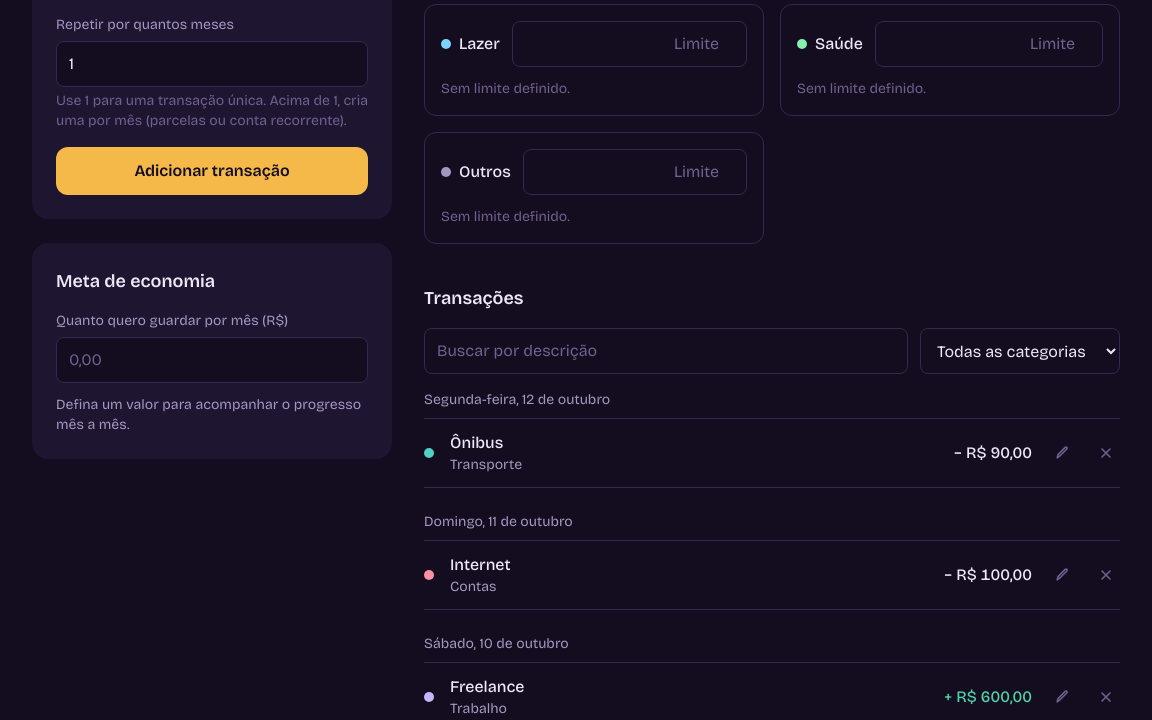
Test: Dashboard › acompanha a meta de economia
(page scrolled)
Step 1. Type "3000" into the number field labelled "Quanto quero guardar por mês (R$)" → [212, 360], box [56,337,368,383]
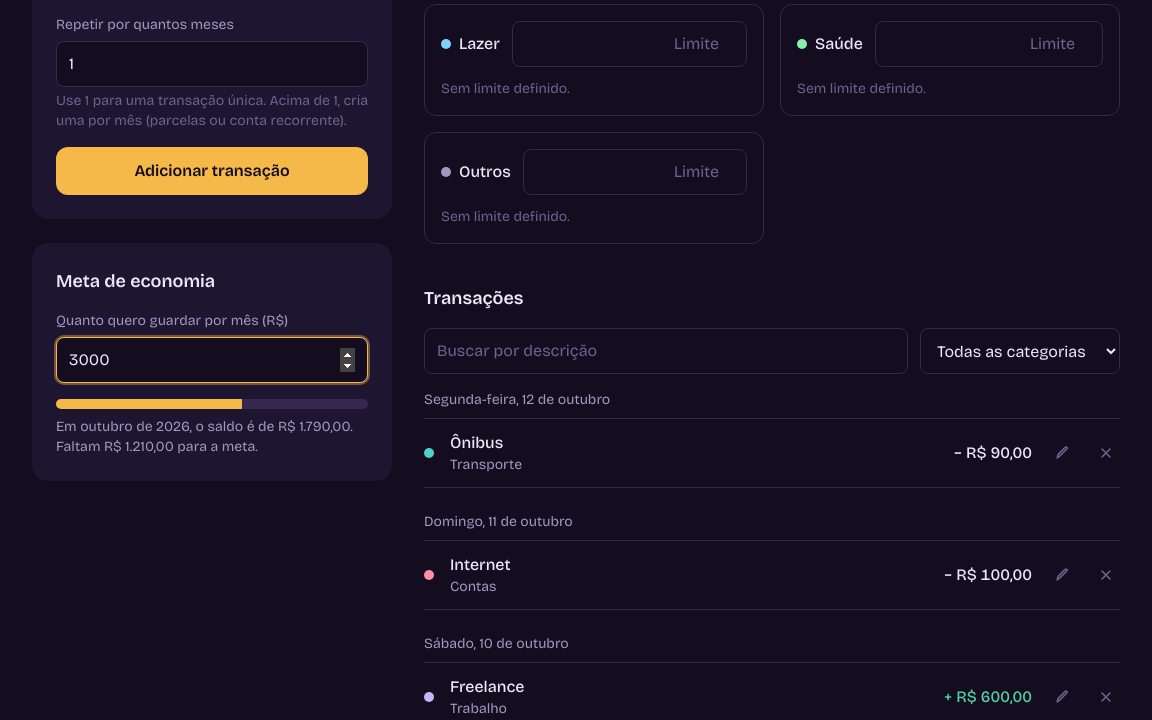
Now the text "Faltam" is shown, box [56,418,353,455]
